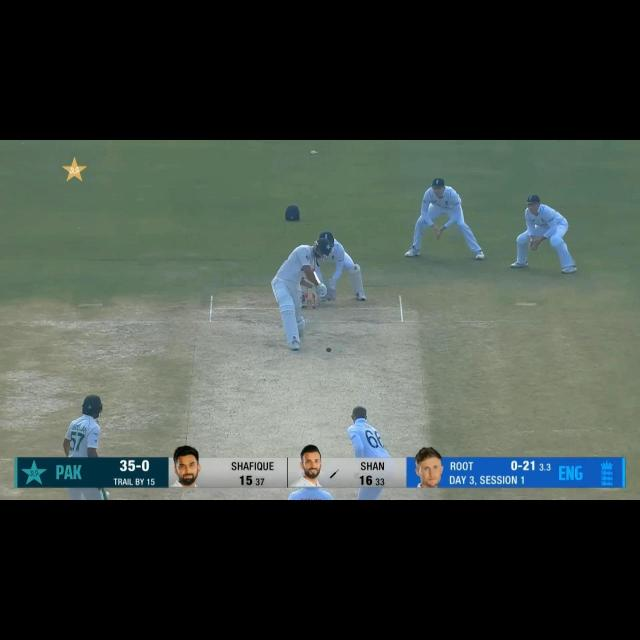bat: (305, 278, 315, 285)
